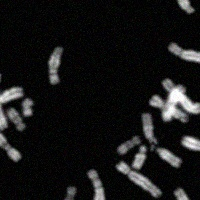chromosome: (117, 160, 162, 197), (162, 77, 200, 113), (149, 95, 188, 122), (163, 84, 185, 121), (0, 129, 21, 162), (168, 43, 200, 62), (88, 169, 106, 200), (48, 48, 63, 84), (156, 147, 181, 166), (117, 135, 140, 155), (0, 71, 7, 130), (7, 108, 24, 132), (0, 88, 22, 106), (170, 0, 195, 14), (133, 144, 146, 169), (175, 187, 200, 200), (181, 136, 200, 152), (142, 112, 153, 139), (60, 185, 76, 200), (22, 97, 34, 116)
